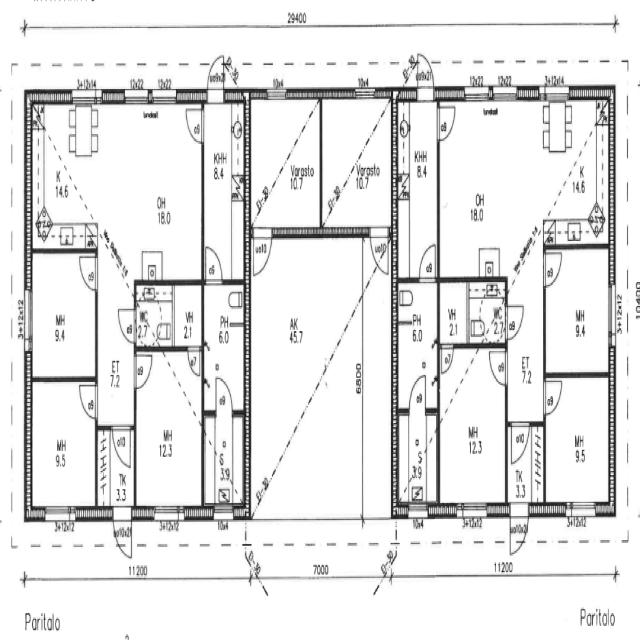door: (492, 320, 520, 384), (204, 51, 228, 104), (250, 227, 275, 276), (110, 422, 134, 471), (507, 416, 531, 465), (368, 225, 391, 276), (413, 52, 436, 101), (77, 378, 100, 424), (436, 99, 458, 147), (112, 512, 133, 561), (132, 348, 154, 394), (184, 104, 206, 148), (542, 246, 564, 290), (509, 511, 529, 559), (487, 346, 509, 389), (116, 304, 138, 346), (77, 250, 99, 292), (542, 377, 564, 417), (418, 238, 438, 282), (204, 242, 224, 286), (214, 374, 234, 418), (504, 302, 524, 343), (408, 371, 426, 413), (438, 340, 455, 378), (187, 344, 204, 380)
window: (116, 85, 177, 109), (464, 85, 519, 106), (262, 82, 310, 104), (41, 502, 77, 528), (22, 281, 34, 358), (340, 81, 382, 103), (151, 501, 182, 529), (461, 497, 488, 525), (568, 496, 598, 521), (211, 500, 236, 528), (605, 281, 616, 344), (69, 89, 106, 107), (407, 496, 430, 521)
zone: (250, 235, 366, 520), (438, 97, 611, 270), (28, 102, 202, 264), (135, 342, 203, 514), (439, 342, 507, 508), (246, 91, 321, 232), (320, 91, 394, 233), (28, 377, 96, 513), (546, 373, 613, 509), (29, 248, 96, 379), (545, 248, 612, 375), (202, 96, 246, 286), (396, 94, 439, 284), (203, 279, 248, 414), (398, 280, 439, 408), (397, 408, 439, 512), (206, 412, 247, 514), (135, 281, 175, 347), (467, 279, 506, 345), (173, 282, 204, 348), (438, 280, 468, 345)
